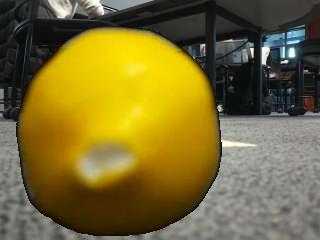lemon: (21, 28, 222, 226)
